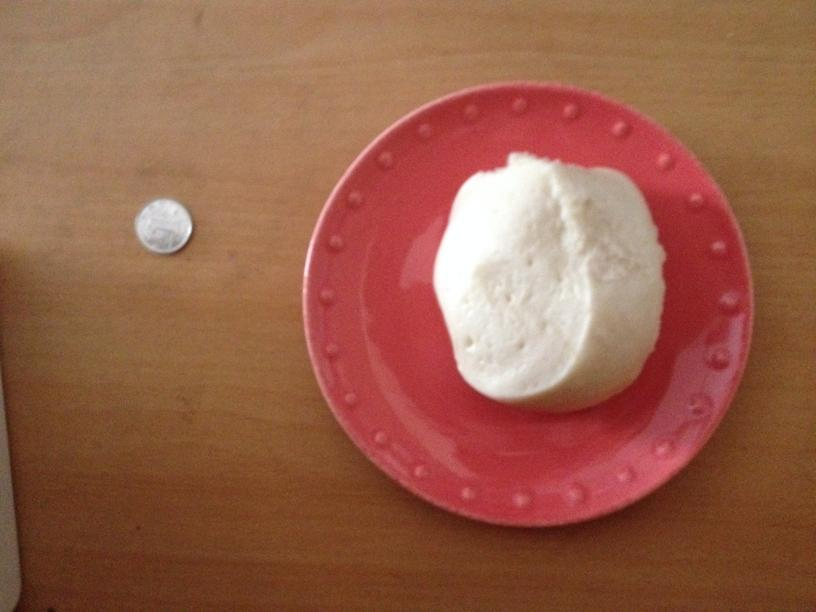bun: (435, 155, 665, 412)
coin: (132, 200, 194, 253)
